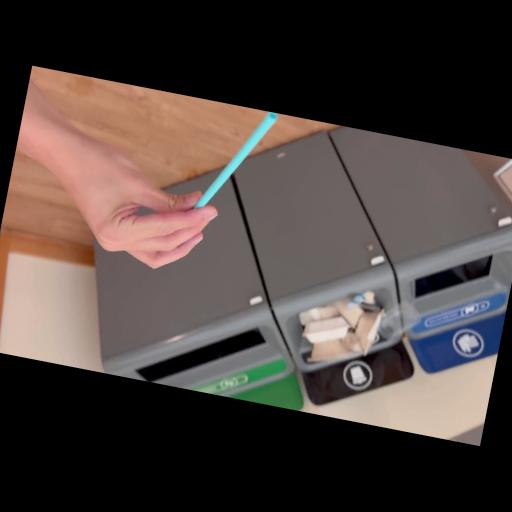straw: (194, 102, 278, 222)
